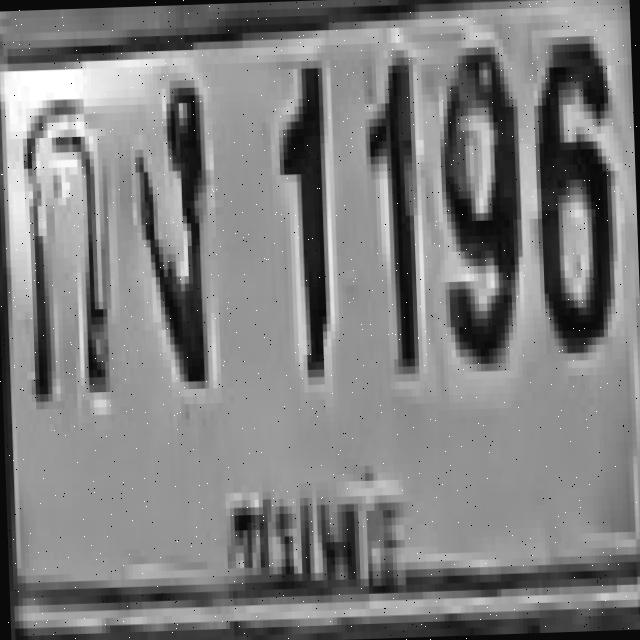1: (264, 49, 365, 412), (357, 34, 444, 398)
10GorGai: (6, 91, 134, 431)
16NgorNgu: (124, 70, 234, 430)
6: (520, 27, 638, 387)
9: (432, 26, 531, 404)
Chumphon: (196, 429, 434, 632)
